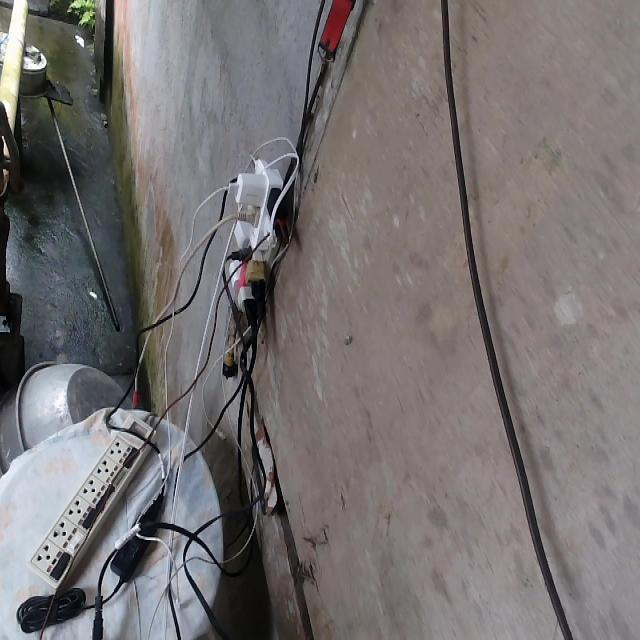-: (215, 135, 298, 328)
